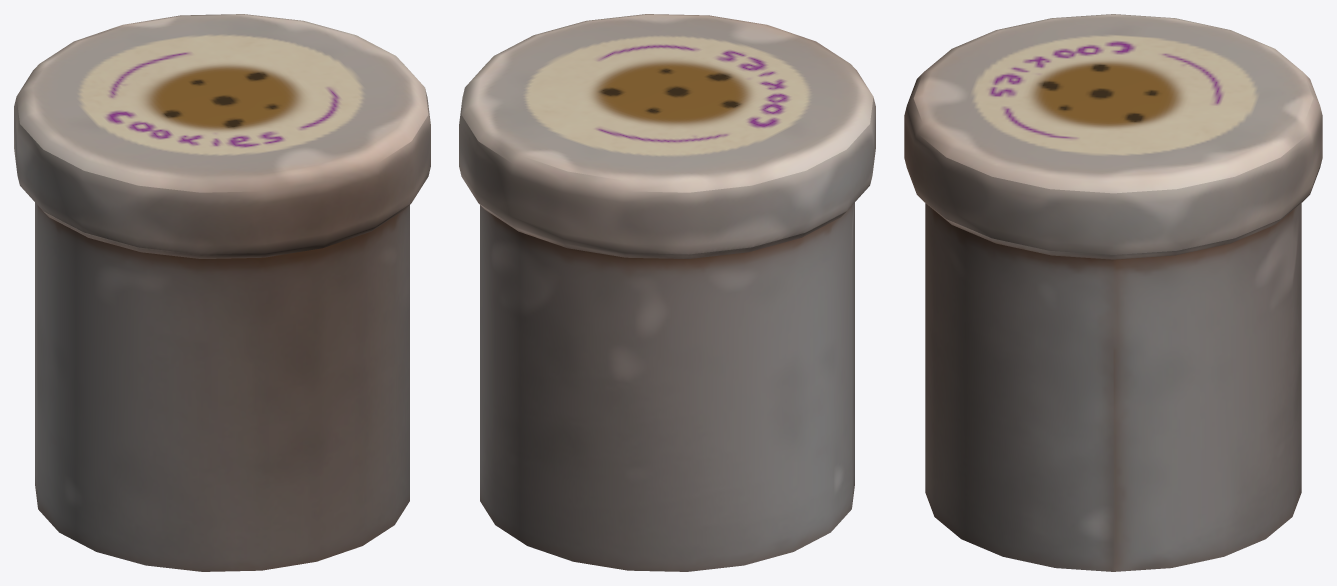
The model's file is SM_FoodPot_06.fbx.
3 views of the same model, side by side, from view 1: azimuth 30°, elevation 25°; view 2: azimuth 150°, elevation 25°; view 3: azimuth 270°, elevation 25° (orthographic).
Parts seen in each view (by area): view 1: SM_FoodPot_06_LOD0; view 2: SM_FoodPot_06_LOD0; view 3: SM_FoodPot_06_LOD0.
Part boxes in pixels (x1=…): SM_FoodPot_06_LOD0: x1=14, y1=14, x2=430, y2=571; SM_FoodPot_06_LOD0: x1=459, y1=14, x2=875, y2=571; SM_FoodPot_06_LOD0: x1=904, y1=14, x2=1322, y2=571.
Bounding box in the file's own units: 8.38 × 8.38 × 8.76.
1 material, 1 textured.
